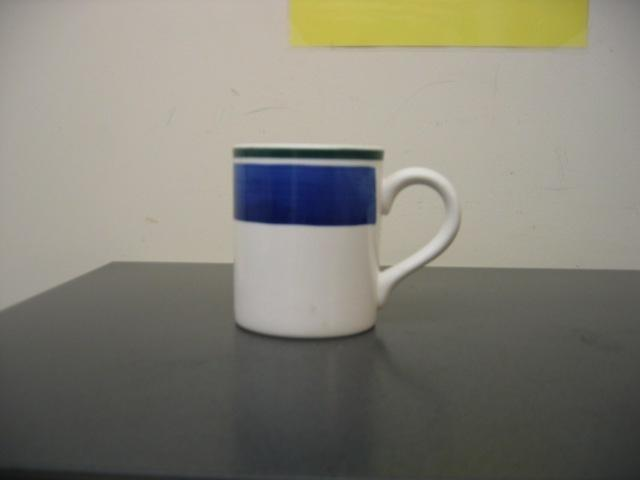cup-handle: (231, 141, 463, 340)
